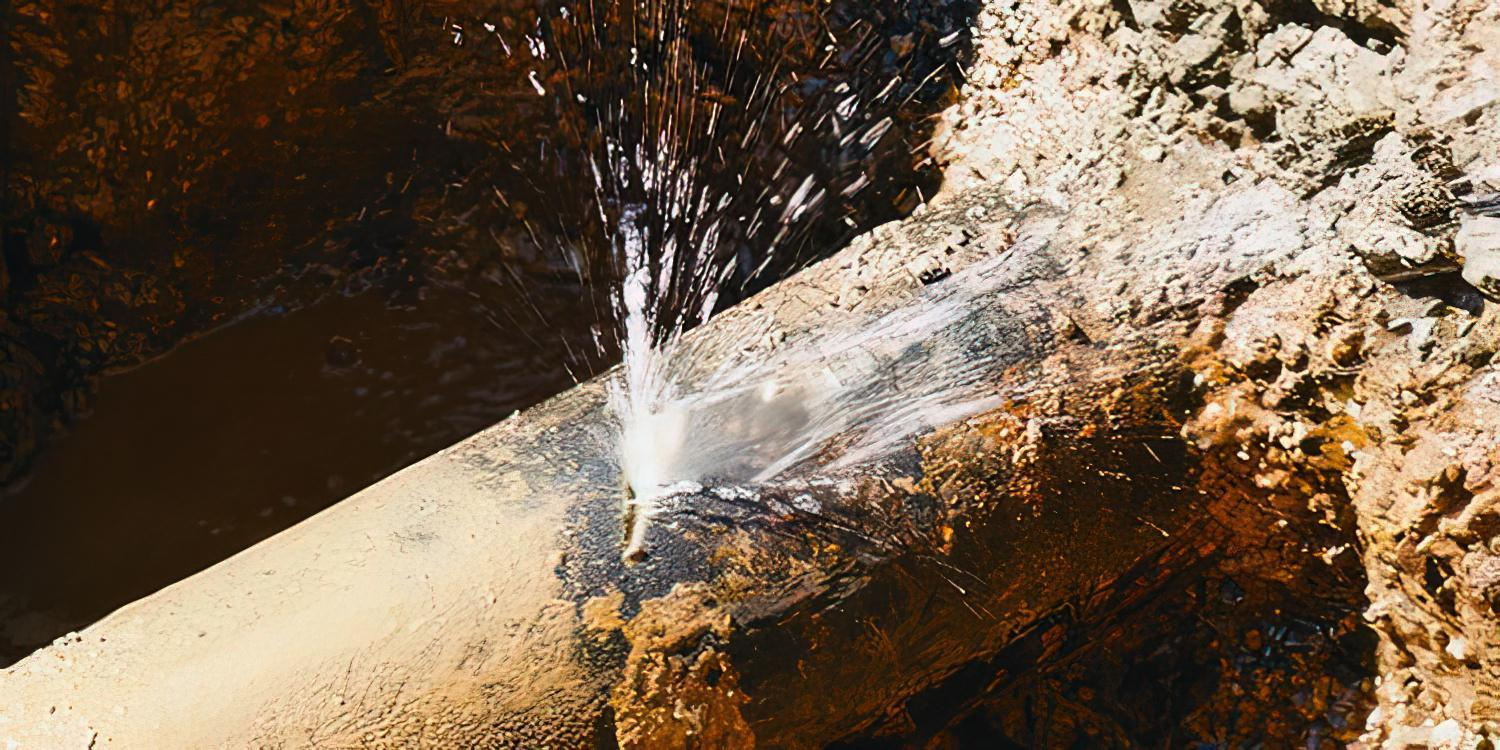pipe burst: (591, 211, 1055, 567)
water accumulation: (0, 285, 623, 667)
